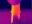Hotspot: (10, 5, 17, 23)
